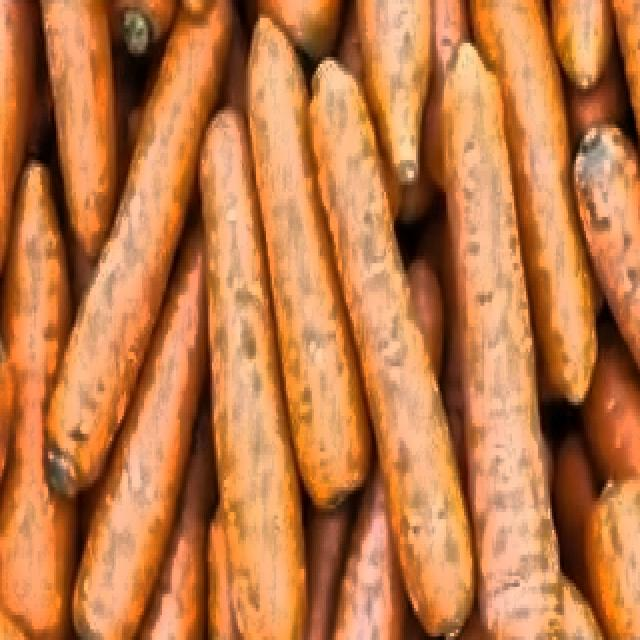Vegetable: (0, 11, 640, 636)
